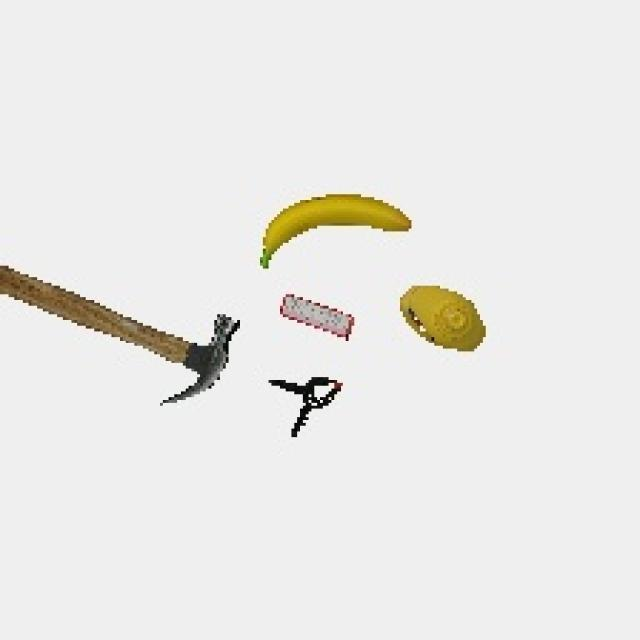Banana: (256, 191, 414, 272)
GelatinBox: (273, 292, 362, 344)
Hammer: (0, 264, 244, 407)
MediumClamp: (264, 373, 351, 441)
MustardBottle: (398, 281, 490, 360)
